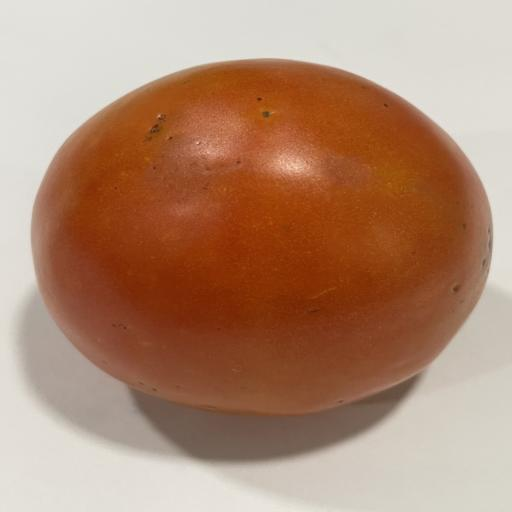unripe: (32, 59, 493, 415)
